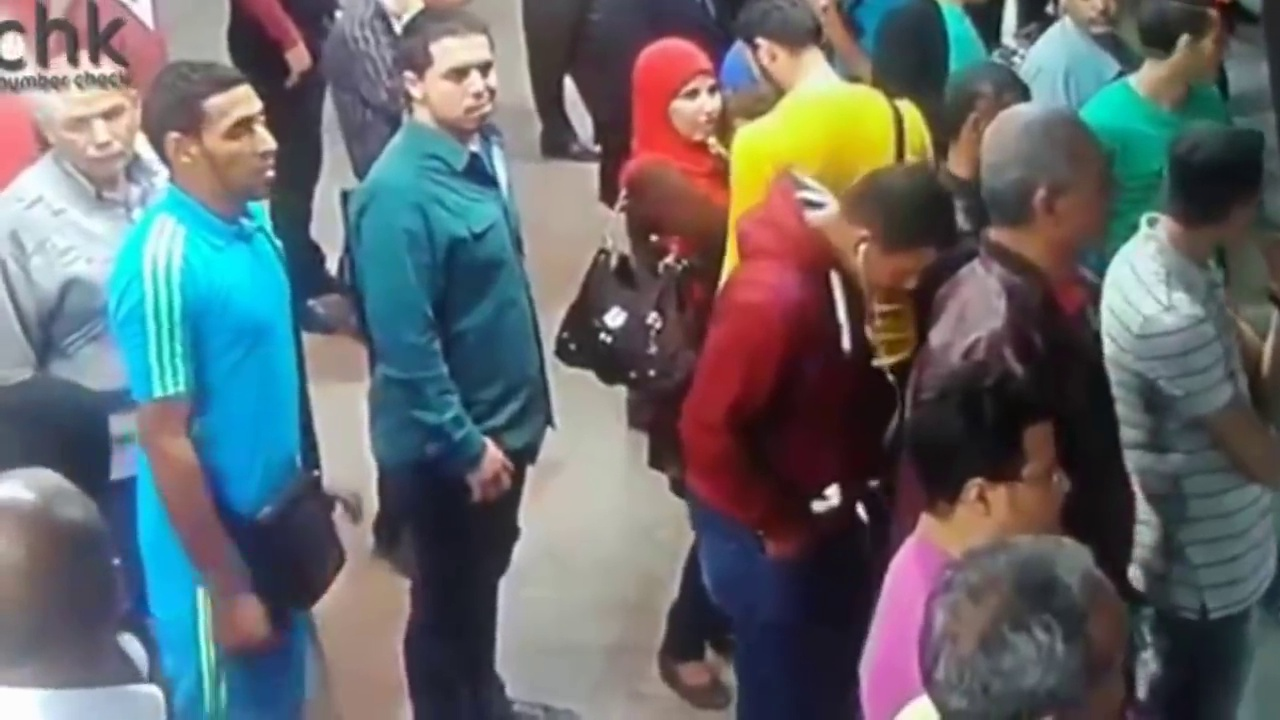face: (194, 97, 283, 199), (422, 43, 503, 132), (1016, 431, 1081, 530), (72, 77, 133, 181), (859, 227, 936, 298), (663, 78, 721, 146)
